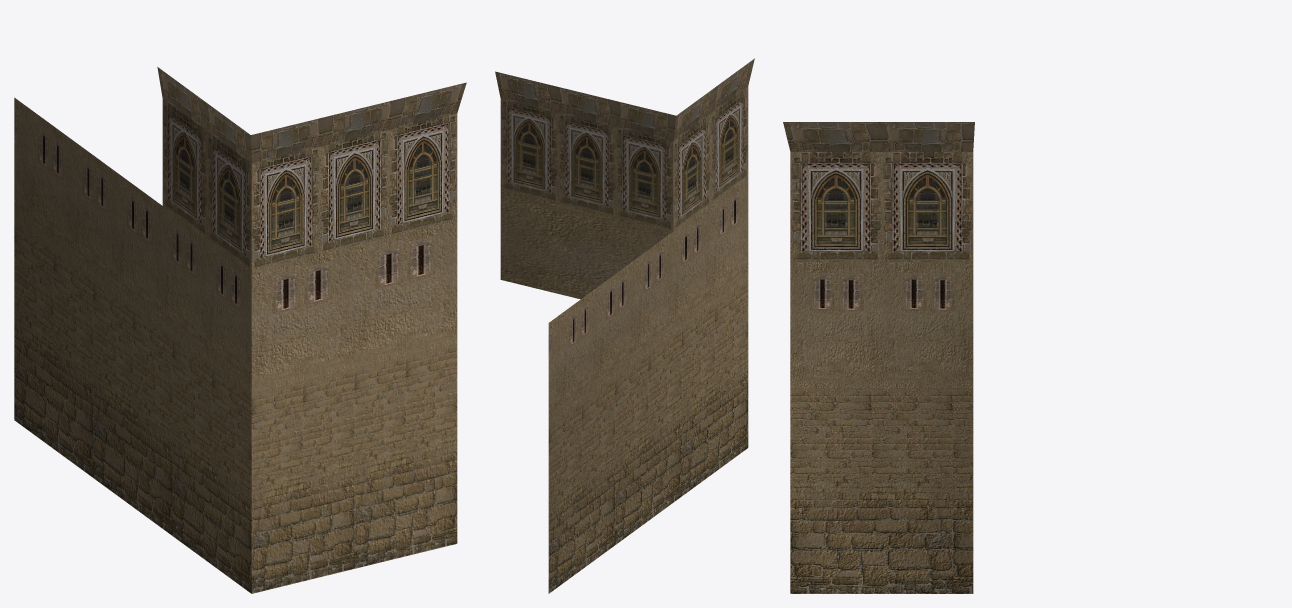
The model's file is M7Z2_WallSection3C2.glb.
The picture shows the model from 3 angles, left to right: view 1: azimuth 30°, elevation 25°; view 2: azimuth 150°, elevation 25°; view 3: azimuth 270°, elevation 25°; orthographic projection. The views are drawn at different scales.
Visible parts, largest first — view 1: M7Z2_WALLSECTION3C2; view 2: M7Z2_WALLSECTION3C2; view 3: M7Z2_WALLSECTION3C2.
Part boxes in pixels (x1,y1,x2,y2): M7Z2_WALLSECTION3C2: (14, 67, 466, 593); M7Z2_WALLSECTION3C2: (495, 58, 754, 593); M7Z2_WALLSECTION3C2: (783, 122, 974, 593).
Size of the model in its own units: 8.4 by 17.19 by 16.24.
Materials: 6 (6 with a texture image).
